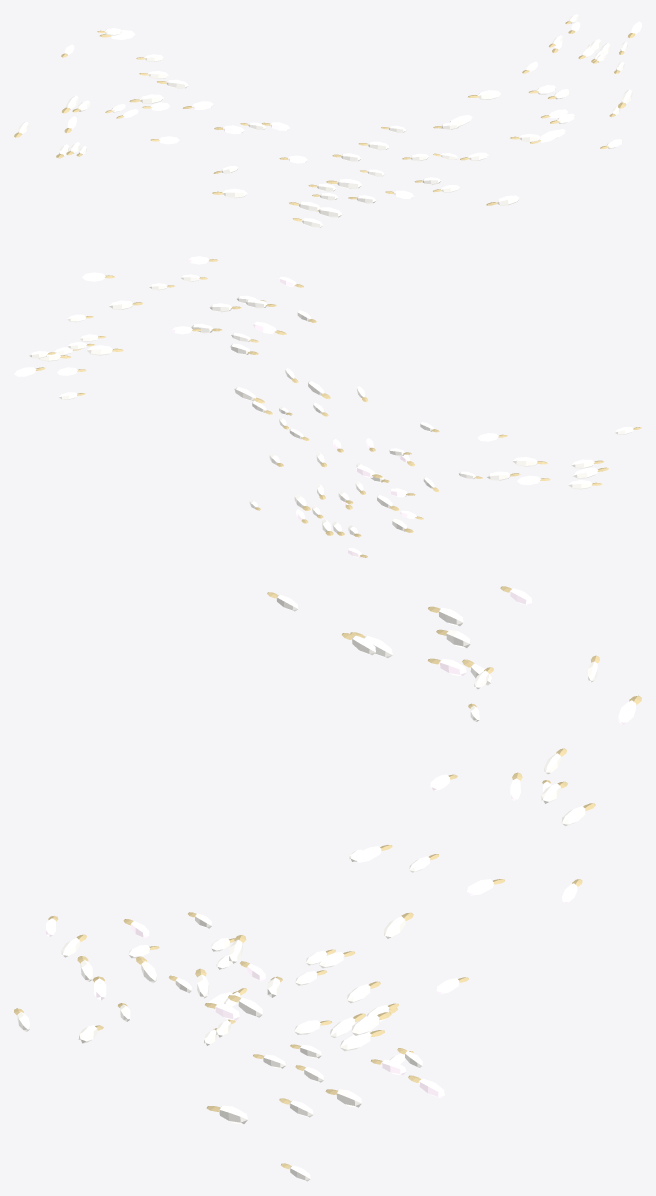
The model's file is fx_fish_swarm_cloud.glb.
3 views of the same model, one above another, from view 1: azimuth 30°, elevation 25°; view 2: azimuth 150°, elevation 25°; view 3: azimuth 270°, elevation 25° (orthographic). The views are drawn at different scales.
Visible parts, largest first — view 1: fx_fish_swarm_cloud_pearl, fx_fish_swarm_cloud_nacre, fx_fish_swarm_cloud_gold; view 2: fx_fish_swarm_cloud_pearl, fx_fish_swarm_cloud_nacre, fx_fish_swarm_cloud_gold; view 3: fx_fish_swarm_cloud_pearl, fx_fish_swarm_cloud_nacre, fx_fish_swarm_cloud_gold.
Boxes of the visible parts, left/top/right/bottom form: fx_fish_swarm_cloud_pearl: left=18, top=14, right=632, bottom=227; fx_fish_swarm_cloud_nacre: left=64, top=21, right=641, bottom=198; fx_fish_swarm_cloud_gold: left=14, top=21, right=635, bottom=221; fx_fish_swarm_cloud_pearl: left=29, top=274, right=633, bottom=536; fx_fish_swarm_cloud_nacre: left=14, top=256, right=540, bottom=557; fx_fish_swarm_cloud_gold: left=36, top=259, right=641, bottom=557; fx_fish_swarm_cloud_pearl: left=17, top=594, right=597, bottom=1181; fx_fish_swarm_cloud_nacre: left=46, top=588, right=635, bottom=1098; fx_fish_swarm_cloud_gold: left=14, top=586, right=641, bottom=1169.
Bounding box in the file's own units: 13.97 × 4.34 × 8.28.
